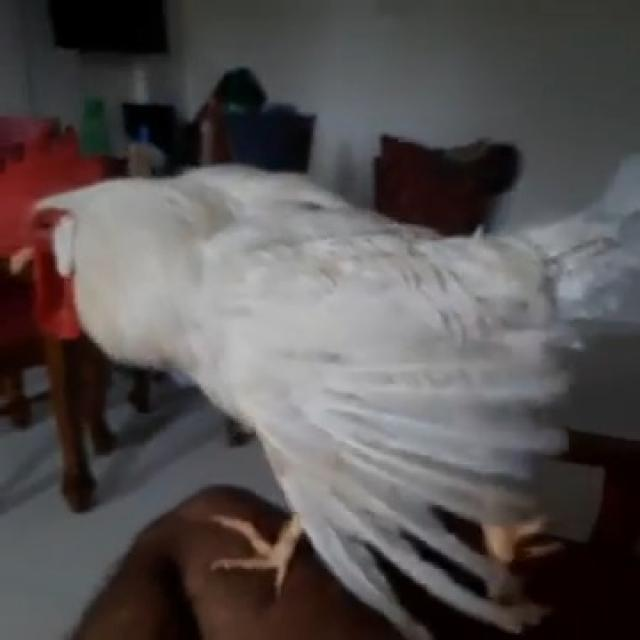wing and leg stretching: (0, 94, 604, 604)
